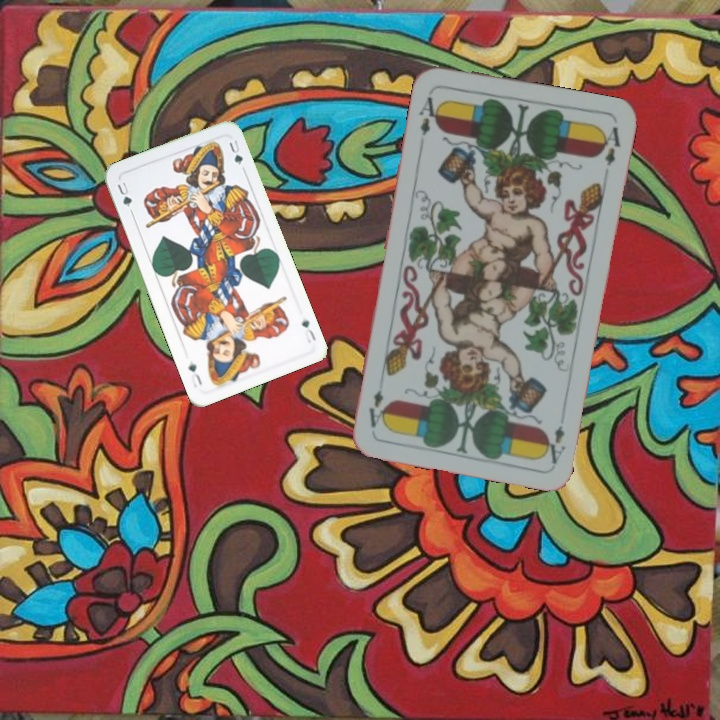EA: (415, 92, 444, 138), (540, 421, 568, 466)
GU: (113, 178, 135, 215), (297, 315, 319, 346)
